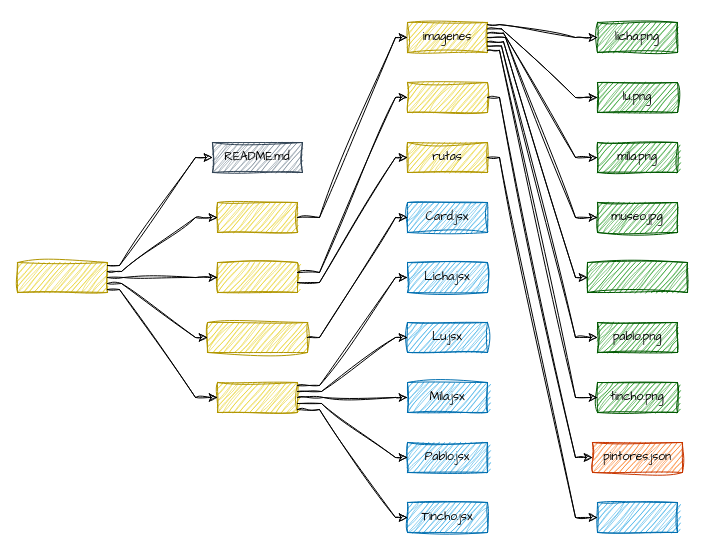
Image size: 705x550. Some labels were removed from this diagram. The centre of each missing label's shape, as x and y in pixels:
appGrupo10: (62,277)
componentes: (257,337)
data: (447,97)
museodark.jpg: (637,277)
public: (257,217)
rutas.jsx: (637,517)
secciones: (257,397)
src: (257,277)
